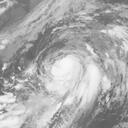cyclone: (49, 51, 82, 83)
